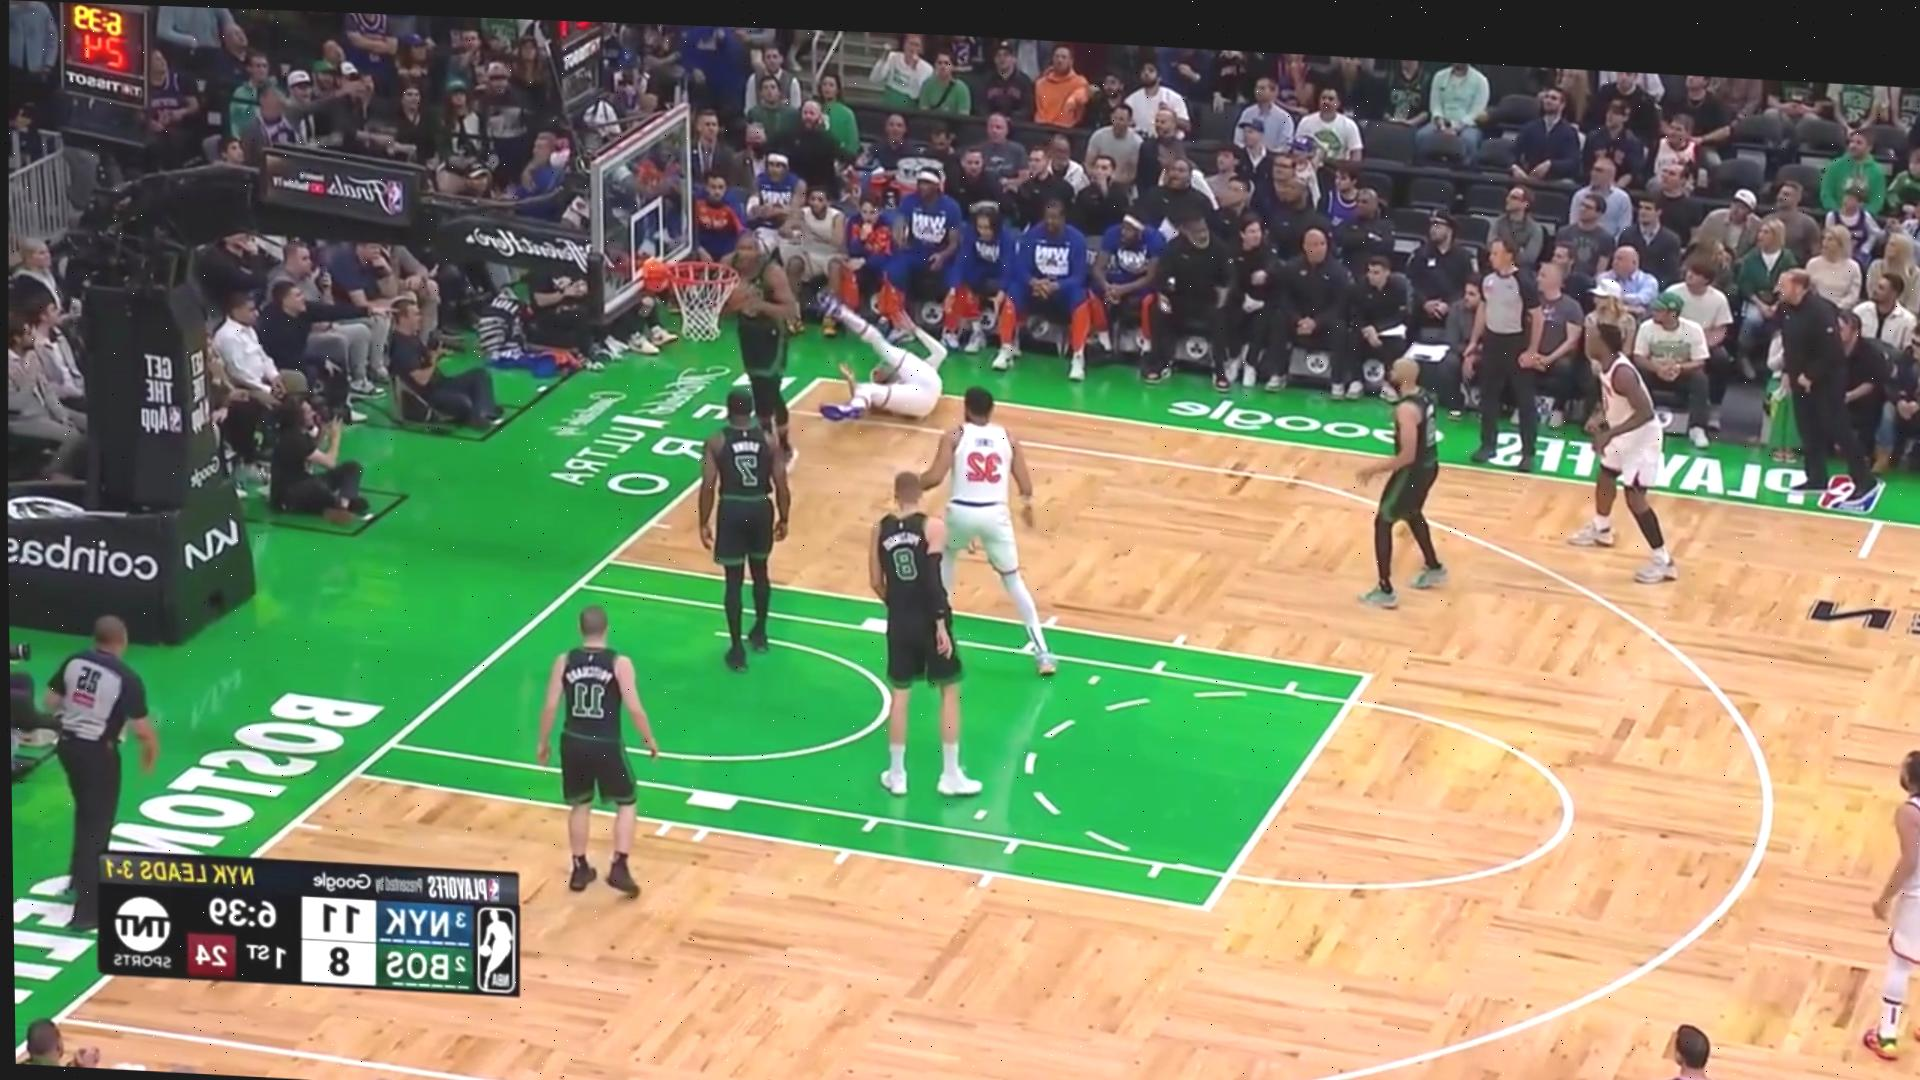foul: (671, 233, 949, 465)
